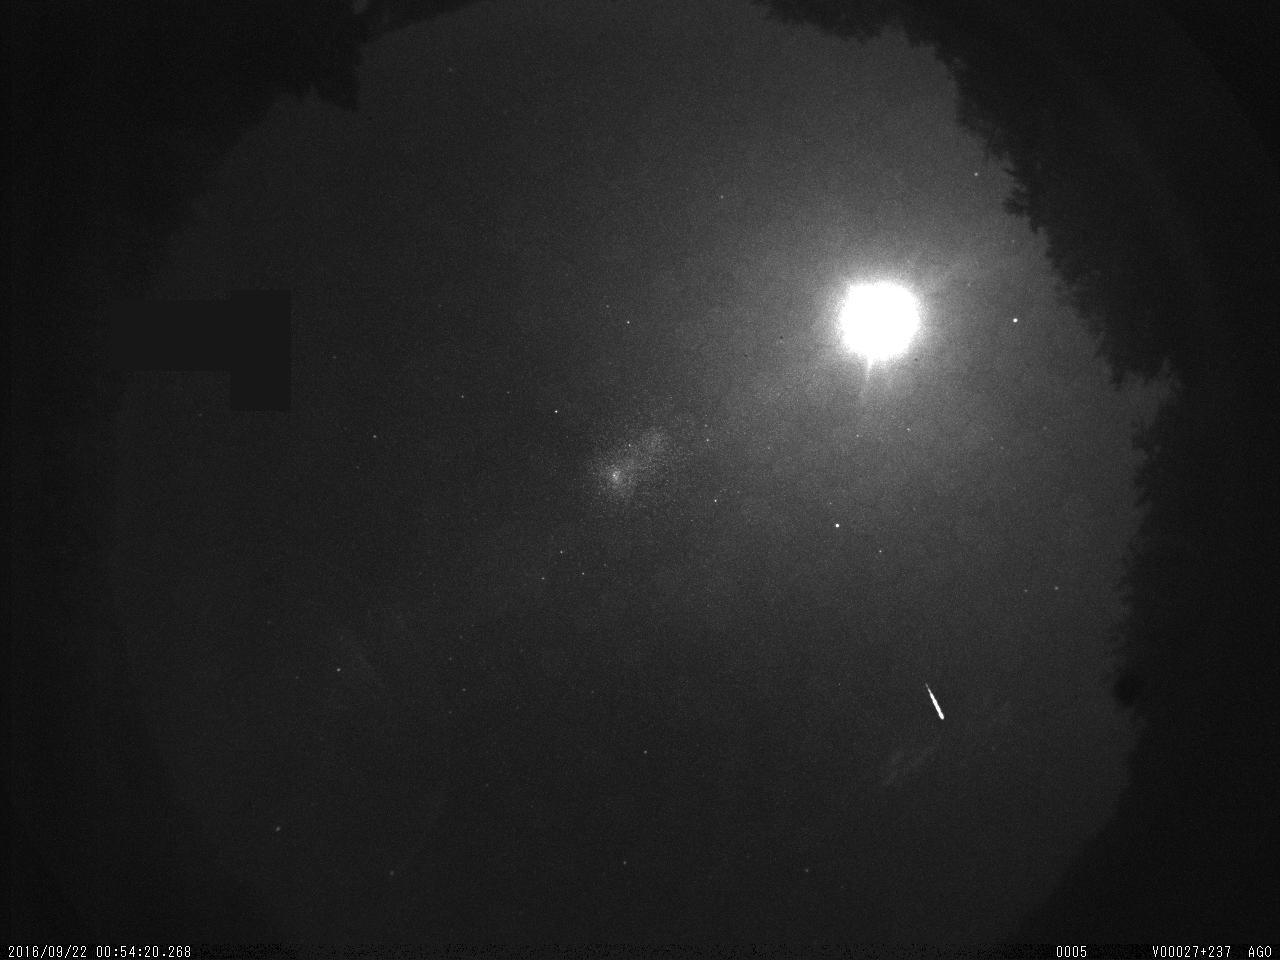meteor: (917, 676, 951, 725)
